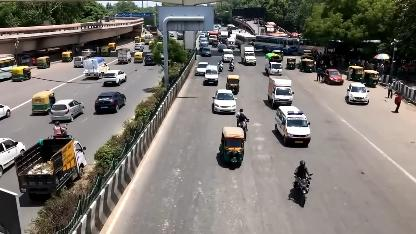auto-rikshaw: (217, 125, 247, 171), (361, 70, 380, 87), (226, 74, 240, 94), (347, 65, 364, 80), (301, 58, 315, 72), (286, 57, 296, 69)
bike: (289, 170, 315, 208), (228, 61, 236, 71), (218, 62, 224, 71)
bus: (255, 34, 299, 53), (235, 32, 256, 47)
car: (209, 89, 240, 117), (346, 83, 370, 104), (201, 63, 219, 87), (322, 68, 344, 84), (194, 60, 209, 78), (222, 48, 234, 62), (202, 47, 212, 56)
priority: (273, 106, 313, 148)
truck: (267, 75, 295, 105), (240, 44, 258, 66), (266, 53, 283, 75)
